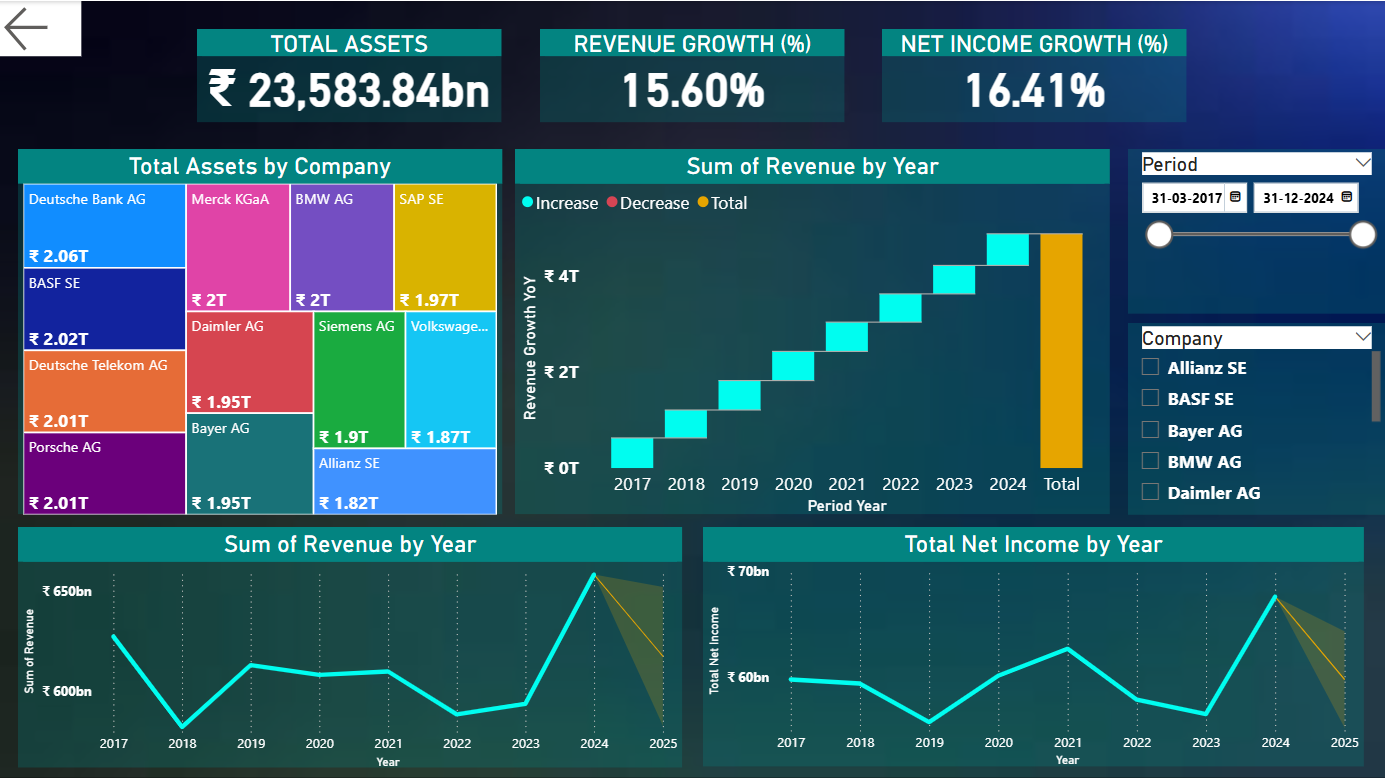

The dashboard page shown, as its layout file describes it:
{"tool":"powerbi","page":{"name":"Growth & Assets Insights","canvas":[1280,720],"ordinal":2},"visuals":[{"type":"card","title":"REVENUE GROWTH (%)","fields":{"Values":["Dashboard Data Source.Revenue Growth (%)"]},"box":[499.6,26.2,280.7,85.7],"z":0},{"type":"card","title":"TOTAL ASSETS","fields":{"Values":["Dashboard Data Source.Total Assets"]},"box":[183.2,26.2,280.7,85.7],"z":1000},{"type":"card","title":"NET INCOME GROWTH (%)","fields":{"Values":["Dashboard Data Source.Net Income Growth (%)"]},"box":[814.9,26.2,280.7,85.7],"z":2000},{"type":"treemap","fields":{"Group":["Dashboard Data Source.Company"],"Values":["Dashboard Data Source.Total Assets"]},"box":[17.5,136.8,446.6,337.5],"z":3000},{"type":"waterfallChart","fields":{"Y":["Sum(Dashboard Data Source.Revenue)"],"Category":["Dashboard Data Source.Period.Variation.Date Hierarchy.Year"]},"box":[476.4,136.8,549.5,337.5],"z":4000},{"type":"lineChart","fields":{"Y":["Sum(Dashboard Data Source.Revenue)"],"Category":["Dashboard Data Source.Period.Variation.Date Hierarchy.Year"]},"box":[17.5,485.7,613.2,222.3],"z":5000},{"type":"lineChart","fields":{"Y":["Dashboard Data Source.Total Net Income"],"Category":["Dashboard Data Source.Period.Variation.Date Hierarchy.Year"]},"box":[650.3,485.7,610.2,221.2],"z":6000},{"type":"slicer","fields":{"Values":["Dashboard Data Source.Company"]},"box":[1042.3,297.4,237.7,177],"z":7000},{"type":"slicer","fields":{"Values":["Dashboard Data Source.Period"]},"box":[1042.3,136.8,237.7,152.3],"z":8000},{"type":"actionButton","box":[0,0,76.1,51.4],"z":9000}]}

Visuals, with their boxes in screenshot pixels (x1, y1, x2, y2), scaled from the page's 1280x720 canvas onto the 1385x778 screenshot:
"REVENUE GROWTH (%)" card: BBox(541, 28, 844, 121)
"TOTAL ASSETS" card: BBox(198, 28, 502, 121)
"NET INCOME GROWTH (%)" card: BBox(882, 28, 1185, 121)
treemap - Dashboard Data Source.Company x Dashboard Data Source.Total Assets: BBox(19, 148, 502, 513)
waterfallChart - Sum(Dashboard Data Source.Revenue) x Dashboard Data Source.Period.Variation.Date Hierarchy.Year: BBox(515, 148, 1110, 513)
lineChart - Sum(Dashboard Data Source.Revenue) x Dashboard Data Source.Period.Variation.Date Hierarchy.Year: BBox(19, 525, 682, 765)
lineChart - Dashboard Data Source.Total Net Income x Dashboard Data Source.Period.Variation.Date Hierarchy.Year: BBox(704, 525, 1364, 764)
slicer - Dashboard Data Source.Company: BBox(1128, 321, 1384, 513)
slicer - Dashboard Data Source.Period: BBox(1128, 148, 1384, 312)
actionButton: BBox(0, 0, 82, 56)
